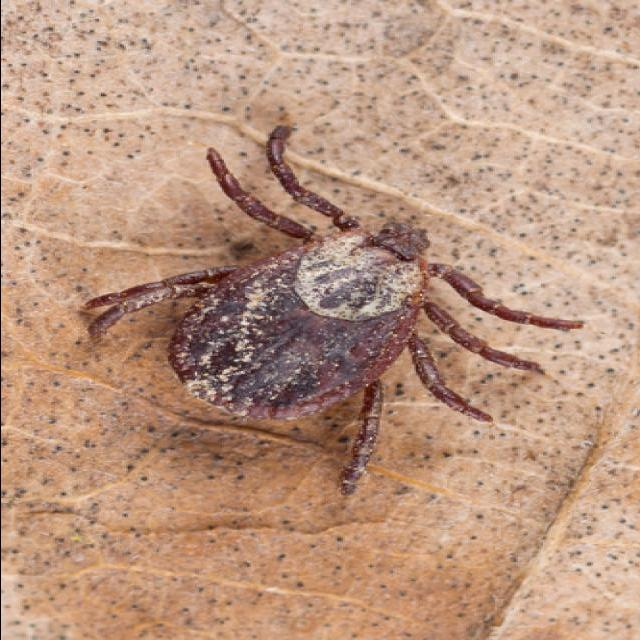Dermacentor Reticulatus-F: (86, 124, 582, 495)
